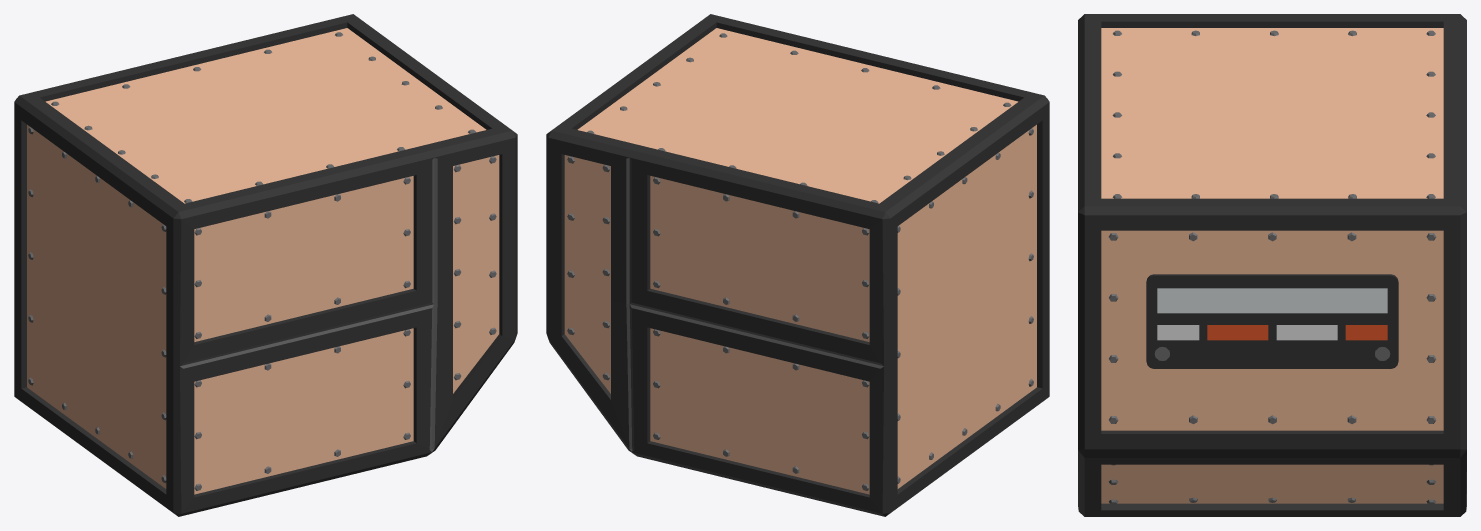
File: 05_Container4_AIRPORT_0.obj
3 views of the same model, side by side, from view 1: azimuth 30°, elevation 25°; view 2: azimuth 150°, elevation 25°; view 3: azimuth 270°, elevation 25° (orthographic). The views are drawn at different scales.
Visible parts, largest first — view 1: 05.Container4_AIRPORT_0; view 2: 05.Container4_AIRPORT_0; view 3: 05.Container4_AIRPORT_0.
Boxes of the visible parts, x1,y1,x2,y2 form: 05.Container4_AIRPORT_0: (14,14,517,516); 05.Container4_AIRPORT_0: (546,14,1049,516); 05.Container4_AIRPORT_0: (1078,14,1466,516).
Size of the model in its own units: 4.48 by 3.79 by 3.72.
1 material, 1 textured.
